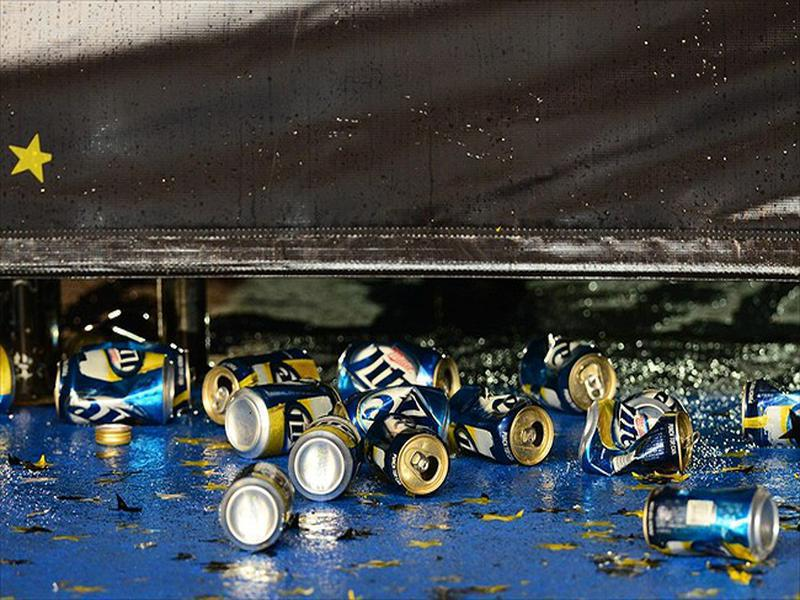can: (640, 480, 782, 563), (576, 394, 696, 482), (50, 346, 177, 427), (218, 383, 342, 455), (447, 387, 556, 467), (334, 339, 460, 400), (516, 338, 617, 412), (219, 461, 296, 554), (288, 413, 362, 505), (364, 416, 450, 494)
